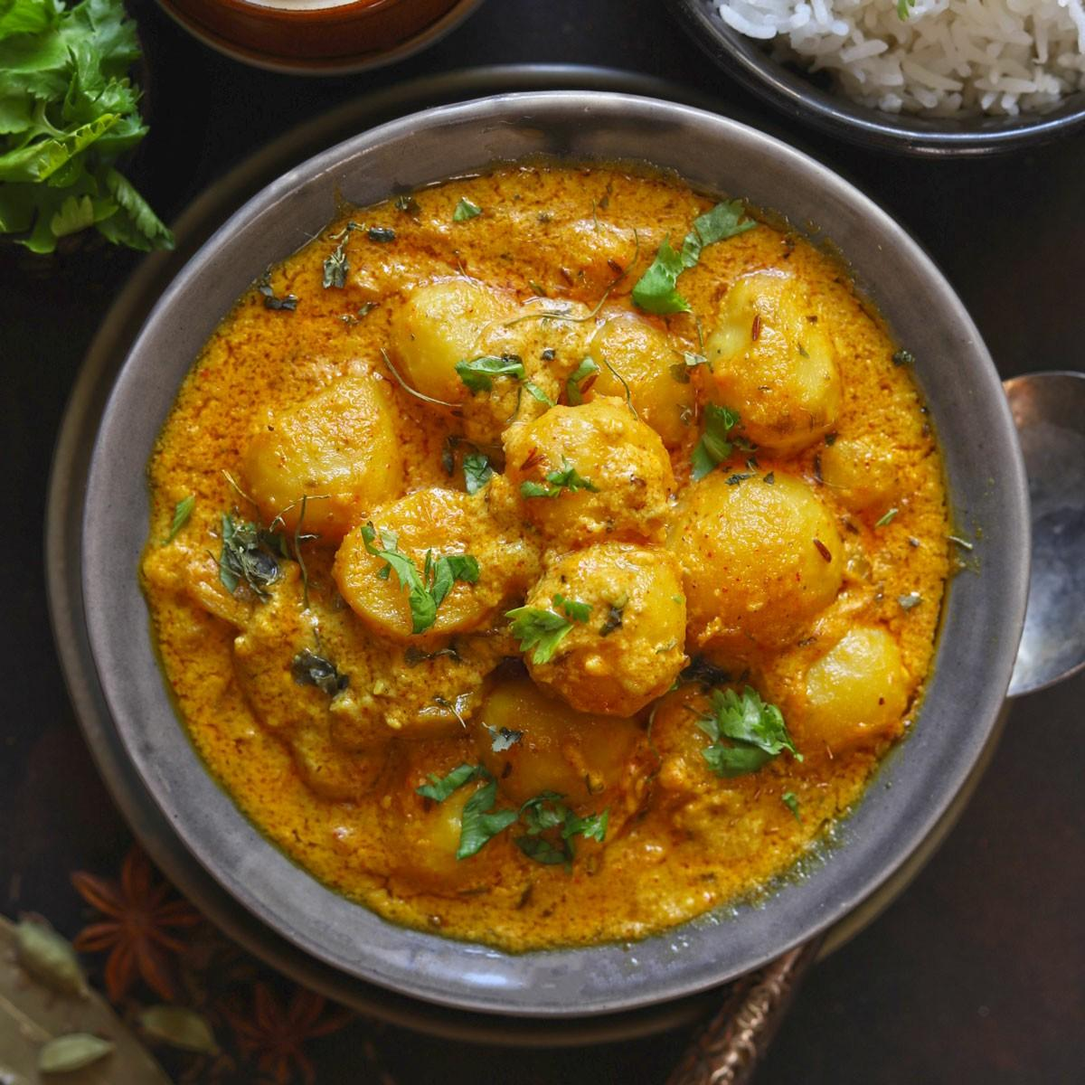DumAloo: (139, 161, 942, 955)
